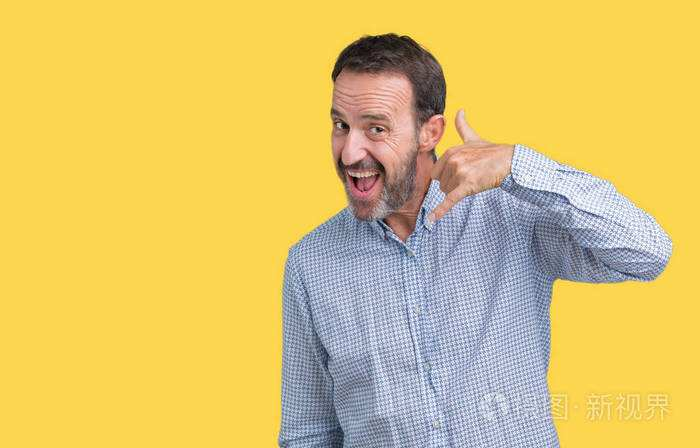no-phone: (424, 106, 502, 222)
